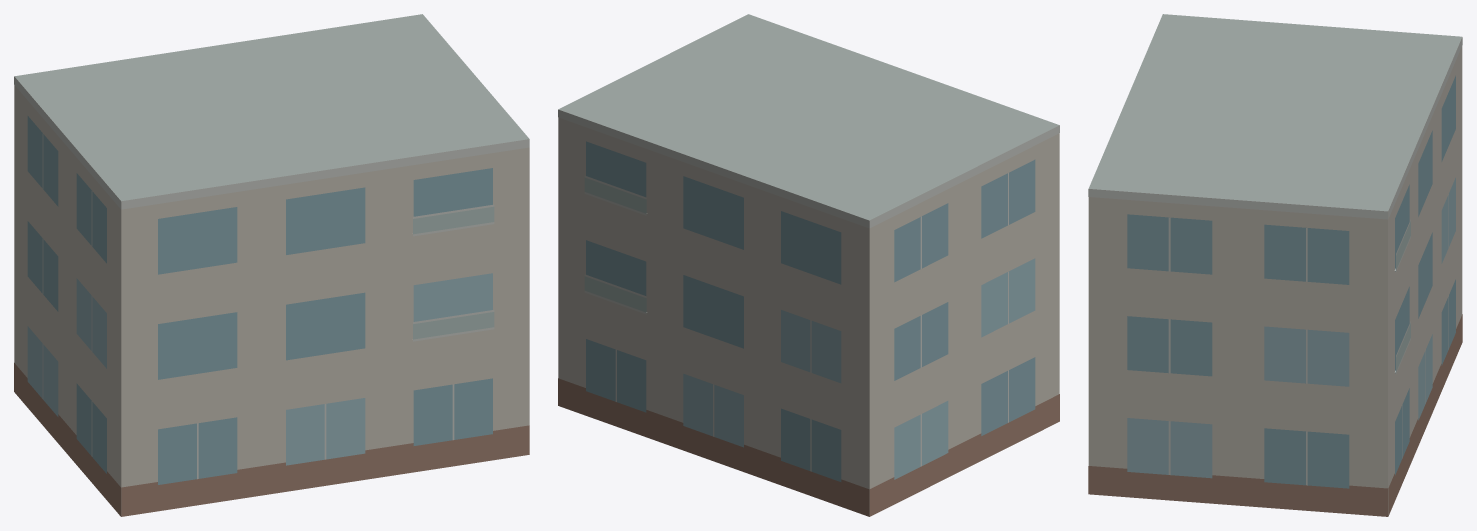
File: survey-upis-32807171.glb
3 renders of one model, left to right at view 1: azimuth 30°, elevation 25°; view 2: azimuth 150°, elevation 25°; view 3: azimuth 270°, elevation 25°, orthographic. The views are drawn at different scales.
Parts seen in each view (by area): view 1: survey-upis-32807171.tmp; view 2: survey-upis-32807171.tmp; view 3: survey-upis-32807171.tmp.
Boxes of the visible parts, left/top/right/bottom form: survey-upis-32807171.tmp: left=14, top=14, right=529, bottom=516; survey-upis-32807171.tmp: left=558, top=14, right=1059, bottom=516; survey-upis-32807171.tmp: left=1088, top=14, right=1462, bottom=516.
Size of the model in its own units: 12.69 by 9.15 by 10.17.
